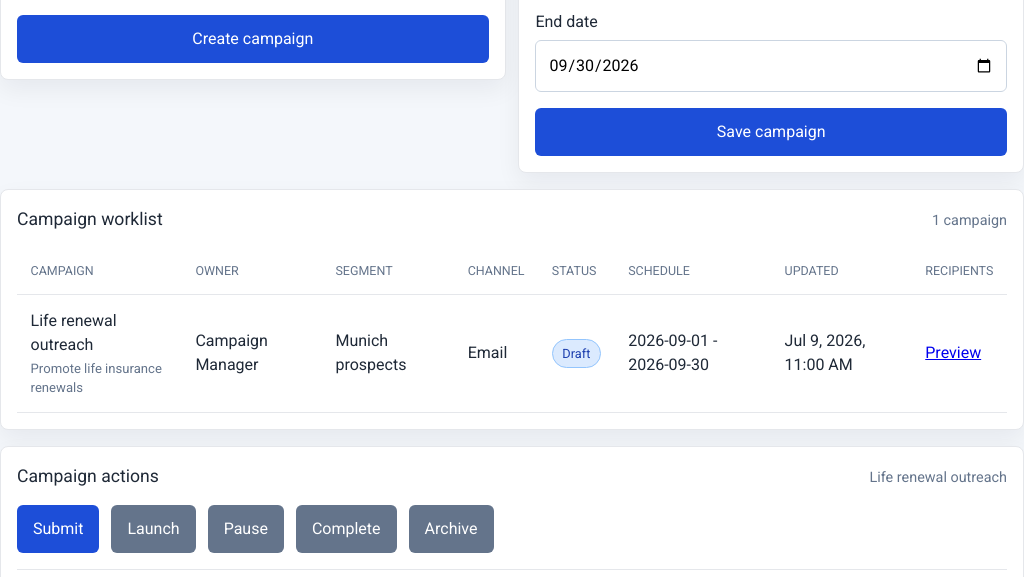
Scenario: CampaignsPage › allows a campaign manager to submit an existing draft campaign
(page scrolled)
What coordinates should you click on to do the following:
click the button "Submit"
I would click on:
 (58, 529)
Its box is 17,505 -> 100,553.
(page scrolled)
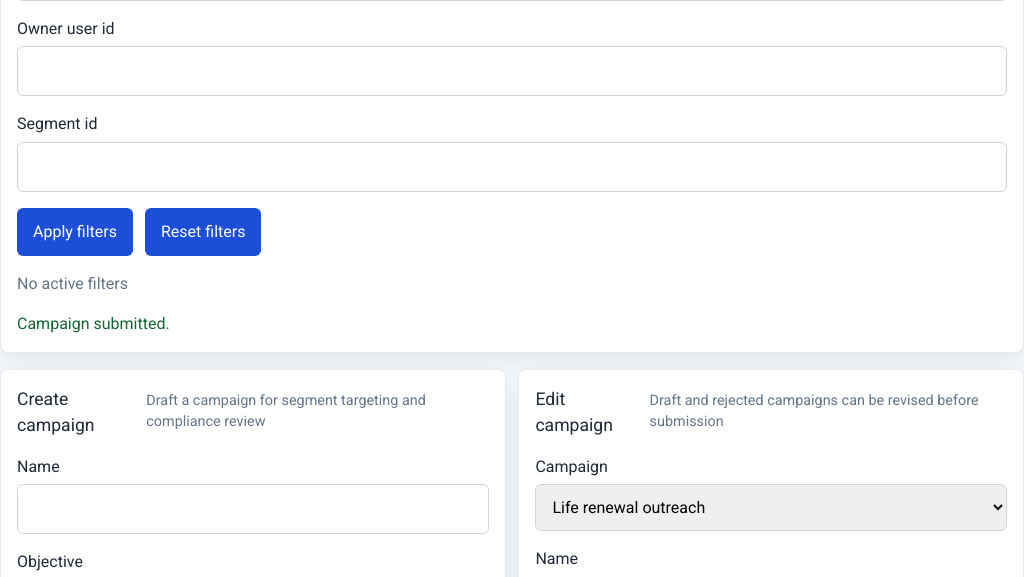
Expected: the text "Campaign submitted." is shown, 17,314 -> 170,333
